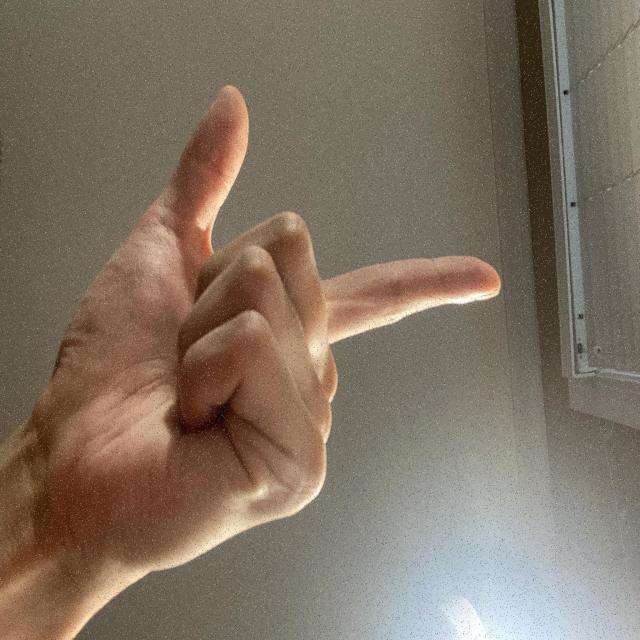L: (219, 179, 599, 640)
